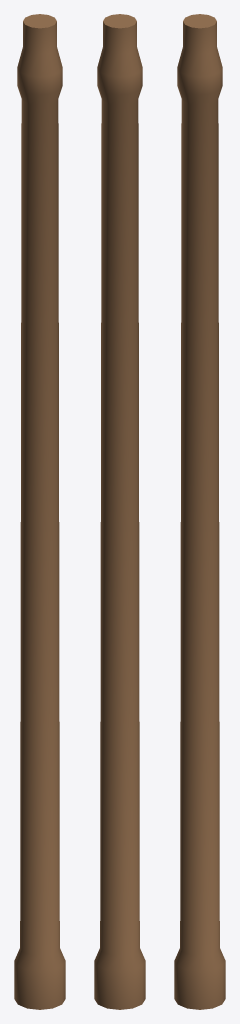
The model's file is porchpost.glb.
3 renders of one model, left to right at view 1: azimuth 90°, elevation 25°; view 2: azimuth 150°, elevation 25°; view 3: azimuth 270°, elevation 25°, orthographic.
Parts seen in each view (by area): view 1: post; view 2: post; view 3: post.
Boxes of the visible parts, x1,y1,x2,y2 form: post: (14,14,65,1009); post: (94,14,145,1009); post: (174,14,225,1009).
Bounding box in the file's own units: 0.18 × 3.8 × 0.18.
